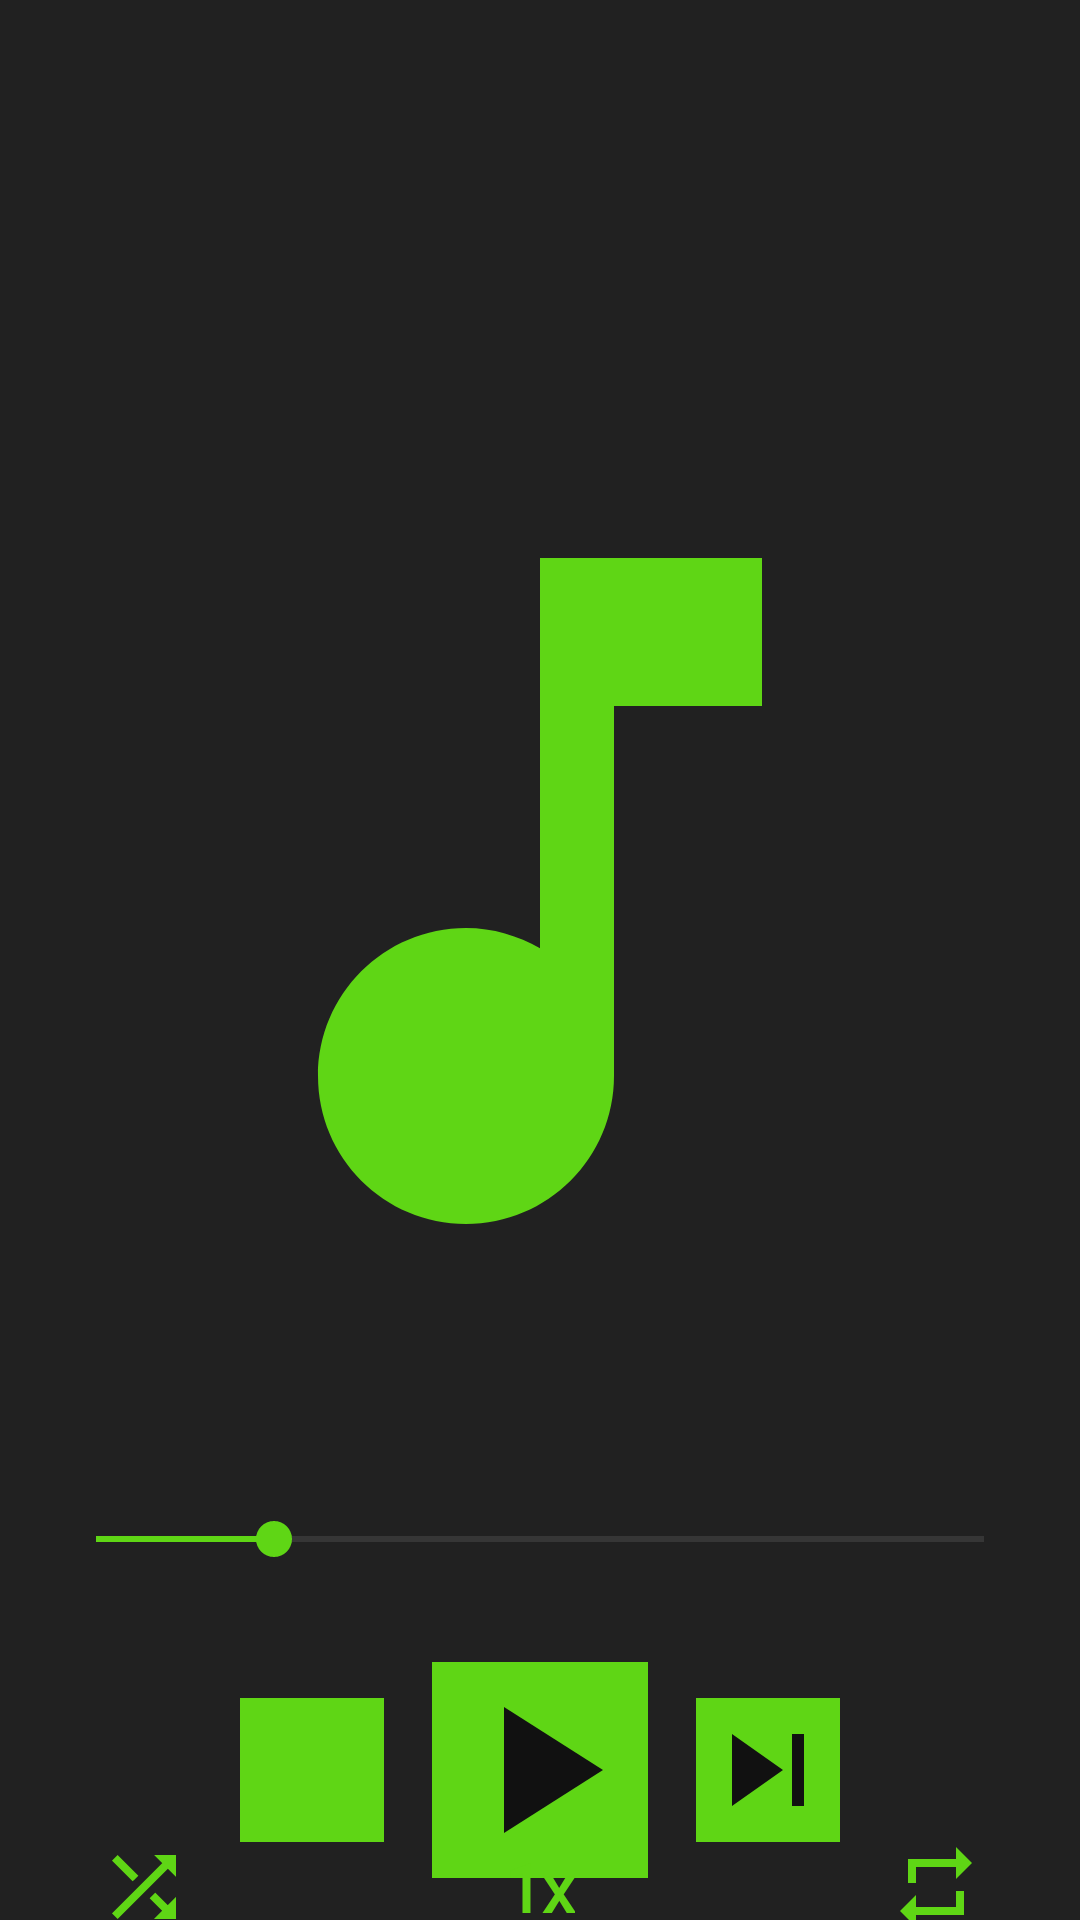

Icons on this 1080w x 1920h Android screen, each with the point to tap as point (x, y):
Play or Pause the song: point (540, 1770)
Skip to next song: point (768, 1770)
